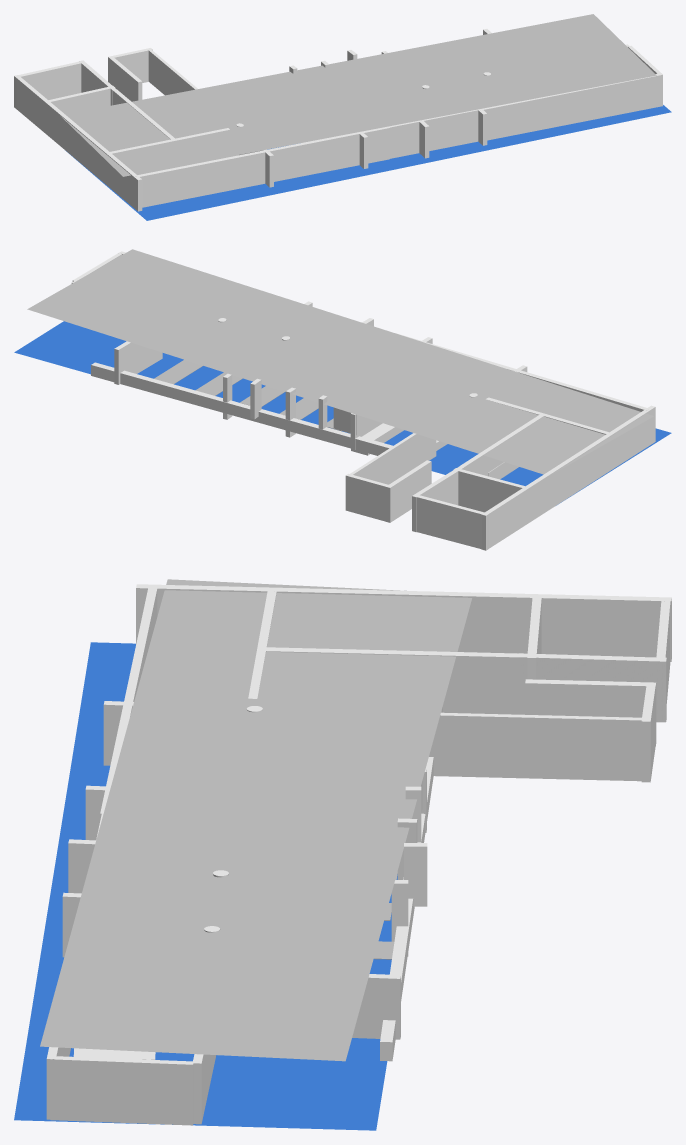
The model's file is casa_apo_unity.obj.
The picture shows the model from 3 angles, top to bottom: view 1: azimuth 30°, elevation 25°; view 2: azimuth 150°, elevation 25°; view 3: azimuth 270°, elevation 25°; orthographic projection. The views are drawn at different scales.
Visible parts, largest first — view 1: Quad, Box007 (3), Plane, Box007 (1), Box010, Box007 (2), Box010 (4), Box010 (2), Box010 (6), Box010 (3), Box010 (7), Box010 (5) (+4 smaller); view 2: Quad, Box010, Plane, Box009, Box010 (6), Box010 (4), Box010 (2), Box010 (3), Box007, Box007 (3), Box010 (5), Box010 (7) (+3 smaller); view 3: Quad, Plane, Box010, Box010 (2), Box007 (3), Box010 (6), Box010 (5), Box007, Box009, Box010 (7), Cube (4), Box007 (2) (+8 smaller).
Boxes of the visible parts, bbox=[...] form: Quad: bbox=[61, 14, 656, 176]; Box007 (3): bbox=[135, 45, 661, 207]; Plane: bbox=[66, 105, 671, 220]; Box007 (1): bbox=[478, 73, 662, 145]; Box010: bbox=[14, 75, 175, 211]; Box007 (2): bbox=[367, 44, 629, 158]; Box010 (4): bbox=[14, 61, 81, 108]; Box010 (2): bbox=[148, 50, 197, 95]; Box010 (6): bbox=[108, 48, 152, 94]; Box010 (3): bbox=[48, 86, 115, 114]; Box010 (7): bbox=[108, 56, 142, 101]; Box010 (5): bbox=[79, 60, 116, 105]; Quad: bbox=[27, 249, 653, 475]; Box010: bbox=[350, 405, 655, 550]; Plane: bbox=[14, 321, 671, 505]; Box009: bbox=[91, 362, 392, 455]; Box010 (6): bbox=[345, 460, 431, 521]; Box010 (4): bbox=[416, 495, 489, 550]; Box010 (2): bbox=[350, 433, 436, 484]; Box010 (3): bbox=[453, 468, 524, 512]; Box007: bbox=[114, 341, 162, 384]; Box007 (3): bbox=[72, 253, 649, 411]; Box010 (5): bbox=[412, 466, 464, 532]; Box010 (7): bbox=[385, 461, 430, 522]; Quad: bbox=[40, 579, 471, 1061]; Plane: bbox=[14, 642, 397, 1130]; Box010: bbox=[136, 584, 671, 832]; Box010 (2): bbox=[429, 712, 641, 781]; Box007 (3): bbox=[50, 586, 193, 1125]; Box010 (6): bbox=[525, 679, 655, 782]; Box010 (5): bbox=[518, 653, 666, 722]; Box007: bbox=[352, 974, 400, 1039]; Box009: bbox=[380, 757, 433, 1061]; Box010 (7): bbox=[525, 679, 656, 745]; Cube (4): bbox=[404, 843, 427, 906]; Box007 (2): bbox=[96, 785, 216, 1124].
Size of the model in its own units: 44.41 by 3.46 by 25.09.
